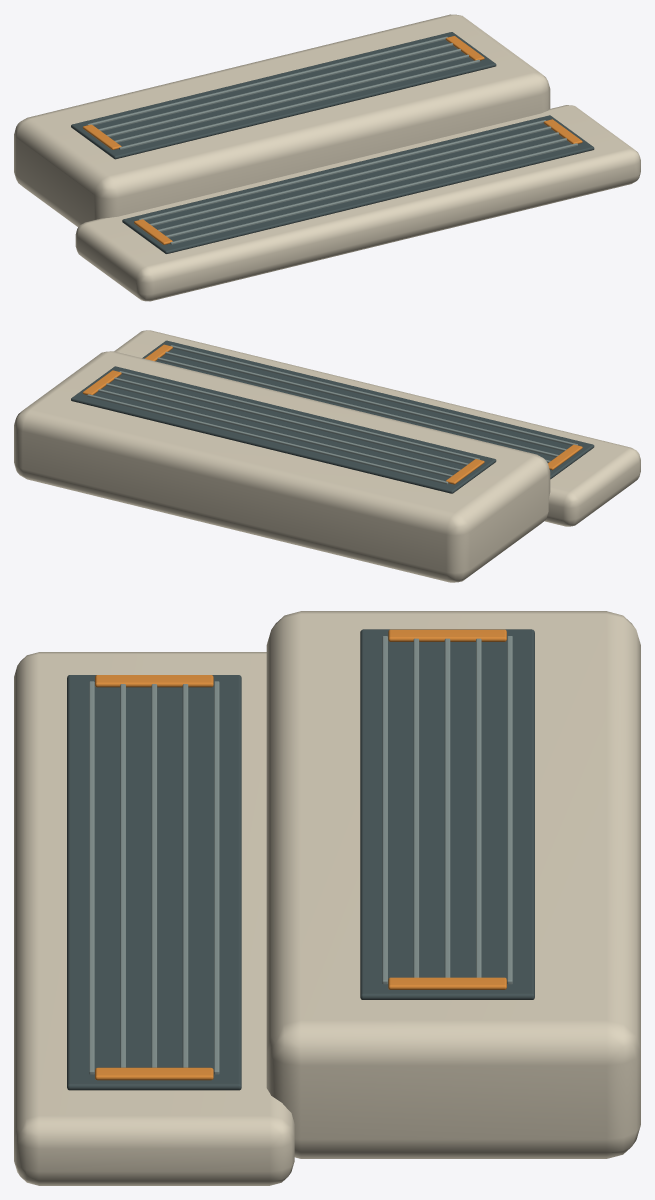
File: entry-step-2m.glb
3 renders of one model, top to bottom at view 1: azimuth 30°, elevation 25°; view 2: azimuth 150°, elevation 25°; view 3: azimuth 270°, elevation 25°, orthographic. The views are drawn at different scales.
Visible parts, largest first — view 1: entry-step-2m / 01 • warm porcelain paint, entry-step-2m / 06 • dark anodized frame, entry-step-2m / 05 • brushed titanium, entry-step-2m / 03 • ochre enamel; view 2: entry-step-2m / 01 • warm porcelain paint, entry-step-2m / 06 • dark anodized frame, entry-step-2m / 05 • brushed titanium, entry-step-2m / 03 • ochre enamel; view 3: entry-step-2m / 01 • warm porcelain paint, entry-step-2m / 06 • dark anodized frame, entry-step-2m / 05 • brushed titanium, entry-step-2m / 03 • ochre enamel.
Part boxes in pixels (x1,y1,x2,y2): entry-step-2m / 01 • warm porcelain paint: [14, 14, 640, 301]; entry-step-2m / 06 • dark anodized frame: [71, 32, 594, 253]; entry-step-2m / 05 • brushed titanium: [87, 36, 577, 244]; entry-step-2m / 03 • ochre enamel: [82, 36, 582, 244]; entry-step-2m / 01 • warm porcelain paint: [14, 330, 640, 582]; entry-step-2m / 06 • dark anodized frame: [71, 340, 594, 493]; entry-step-2m / 05 • brushed titanium: [87, 345, 577, 484]; entry-step-2m / 03 • ochre enamel: [83, 344, 582, 484]; entry-step-2m / 01 • warm porcelain paint: [14, 611, 640, 1185]; entry-step-2m / 06 • dark anodized frame: [67, 629, 534, 1090]; entry-step-2m / 05 • brushed titanium: [89, 636, 512, 1074]; entry-step-2m / 03 • ochre enamel: [95, 629, 506, 1080].
Bounding box in the file's own units: 1.83 × 0.2575 × 1.
